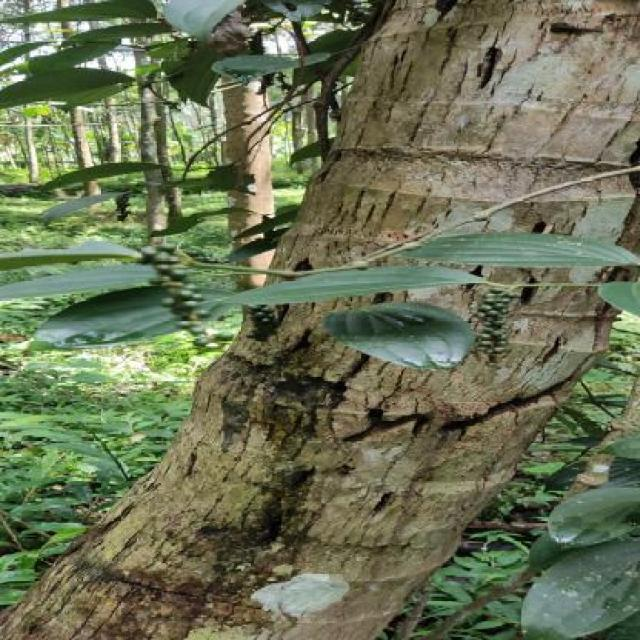UNRIPE: (139, 243, 212, 349), (471, 287, 511, 356), (246, 30, 272, 93), (244, 306, 278, 342)
